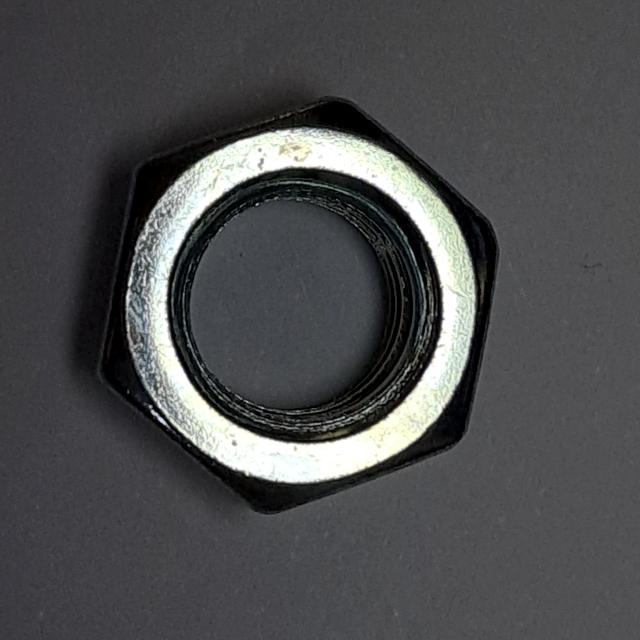Excellent: (85, 87, 511, 527)
